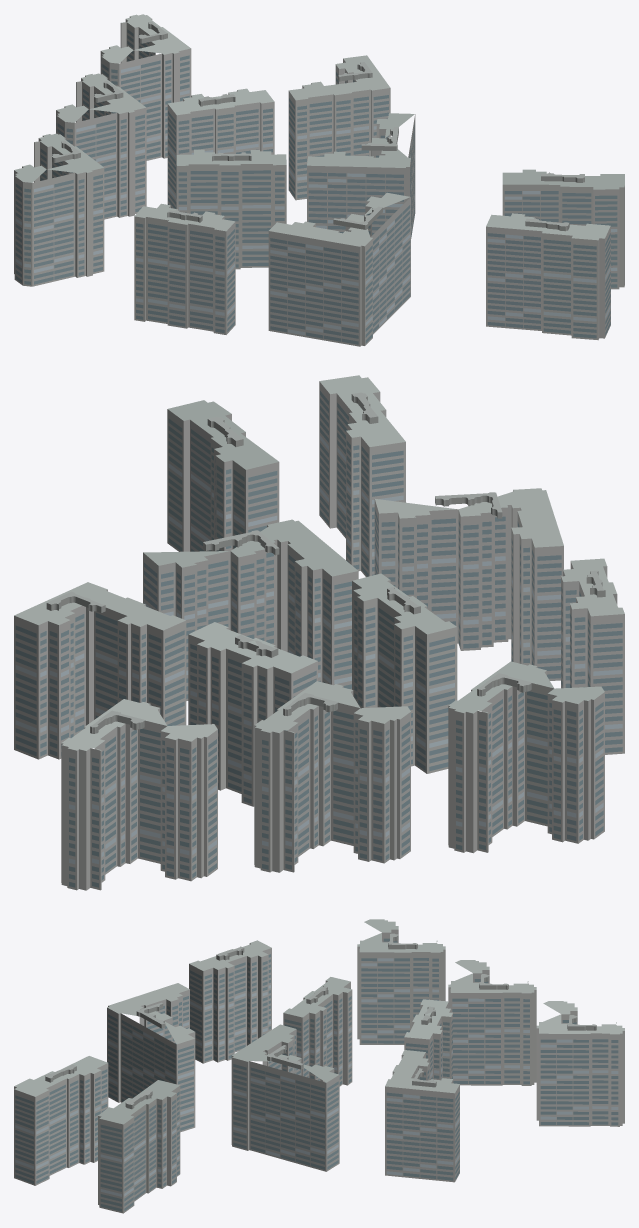
File: apt-a10025614.glb
The picture shows the model from 3 angles, top to bottom: view 1: azimuth 30°, elevation 25°; view 2: azimuth 150°, elevation 25°; view 3: azimuth 270°, elevation 25°; orthographic projection. The views are drawn at different scales.
Parts seen in each view (by area): view 1: apt-a10025614; view 2: apt-a10025614; view 3: apt-a10025614.
Boxes of the visible parts, x1=… form: apt-a10025614: x1=14, y1=14, x2=624, y2=346; apt-a10025614: x1=14, y1=375, x2=624, y2=890; apt-a10025614: x1=14, y1=919, x2=624, y2=1213.
Size of the model in its own units: 237 by 53 by 303.
